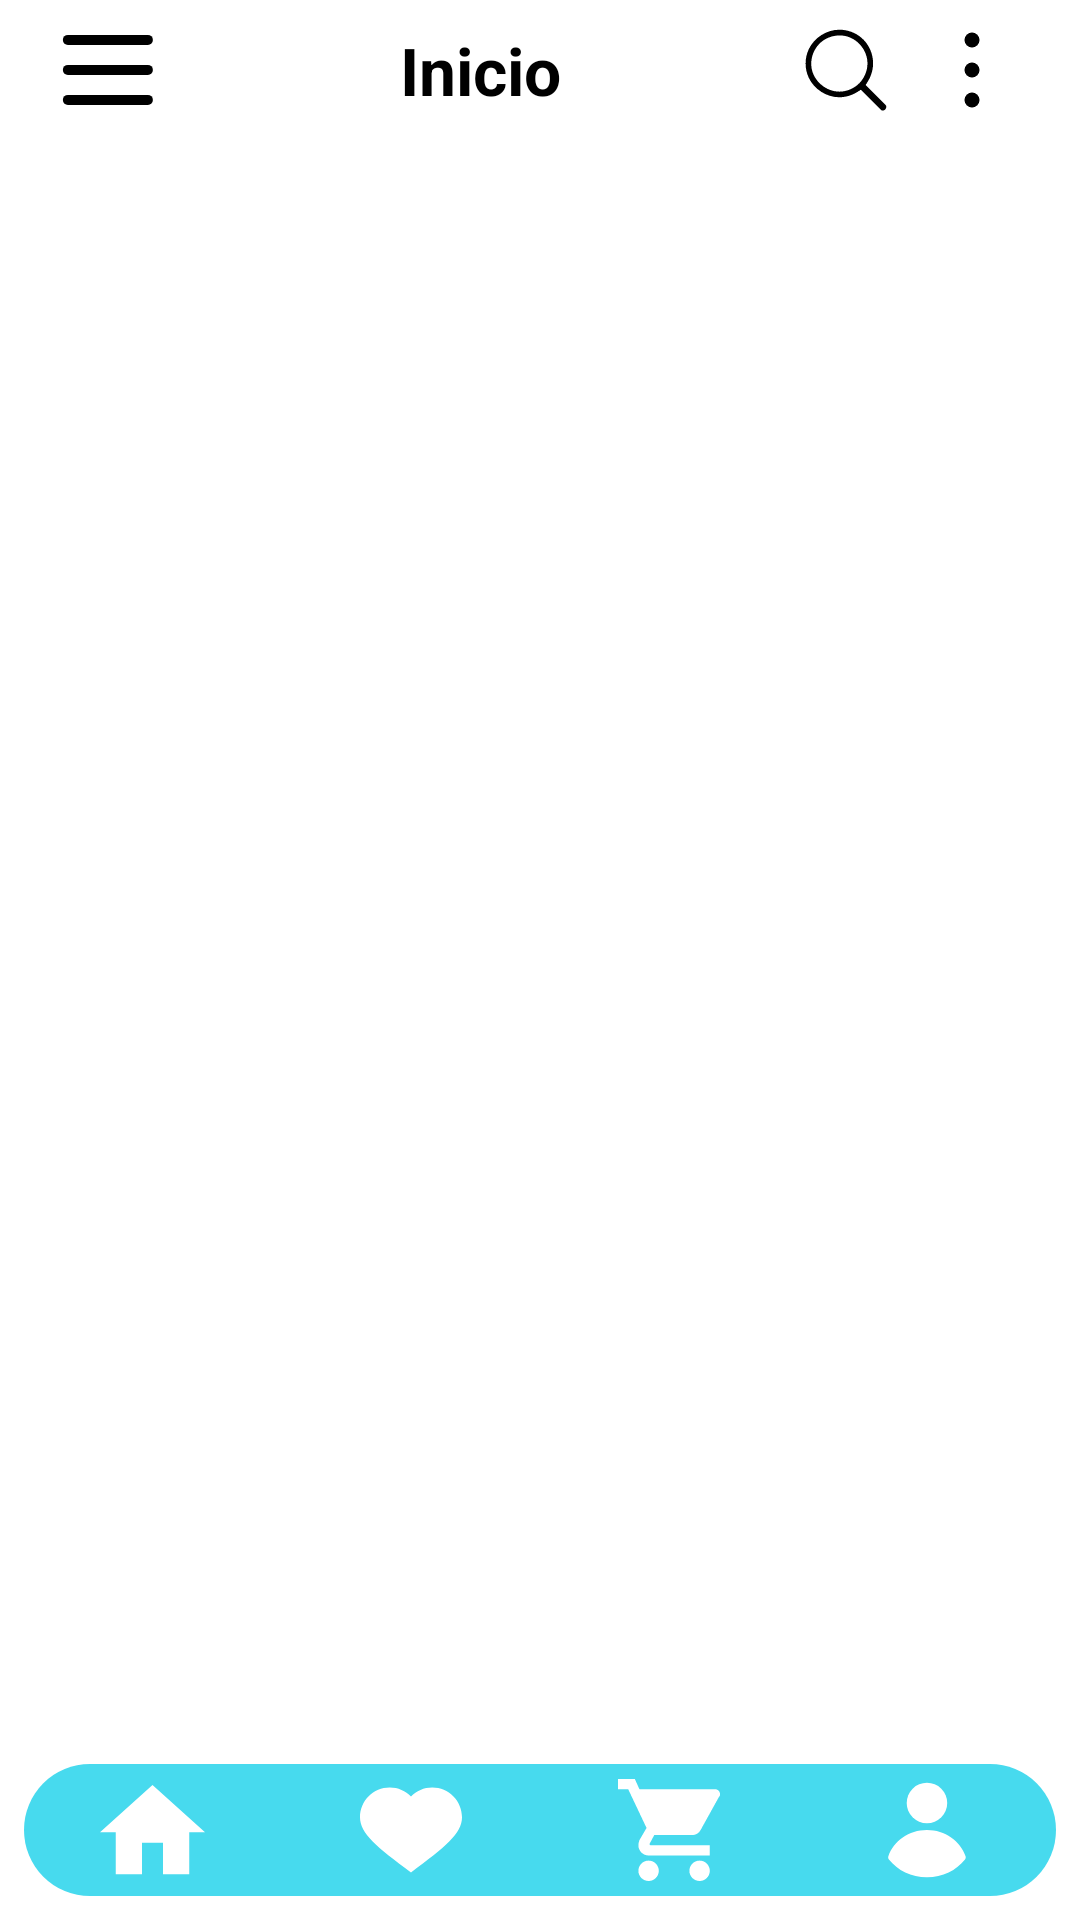

Locate icon controls on the screen. Image size 1080px x 1920px, boxes as (x1, y1, x2, y2).
dots three vertical: (964, 32, 980, 108)
hamburger menu: (63, 35, 153, 105)
home: (100, 1785, 205, 1875)
search magnifier: (805, 29, 887, 111)
shopping cart: (618, 1779, 720, 1881)
user profile account: (888, 1782, 966, 1878)
wishlist favorites: (360, 1787, 462, 1873)
